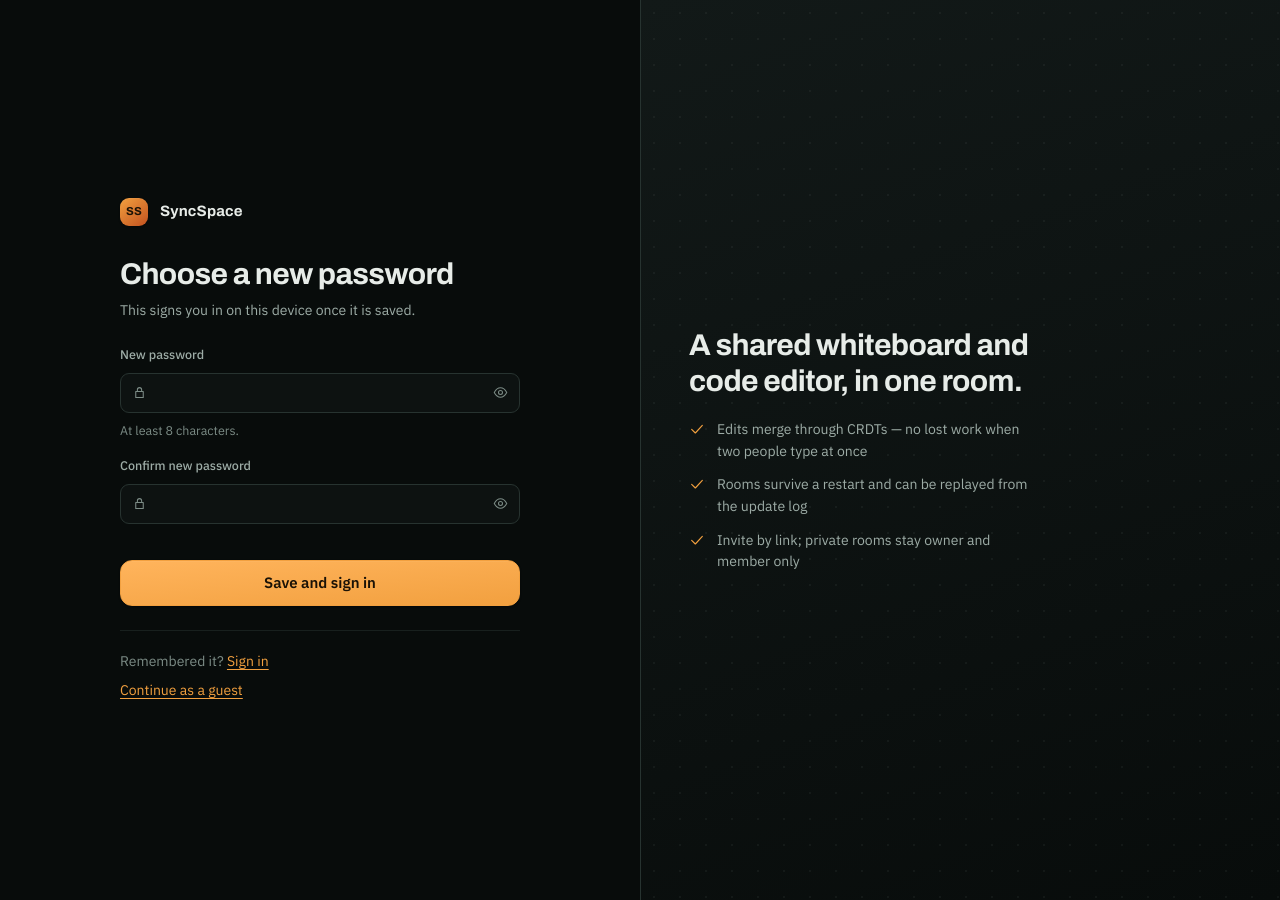
ResetPassword › offers a new link when the token has expired
Type "an-entirely-new-passphrase" into the password field labelled "New password" at (320, 393), box [120,373,520,413]
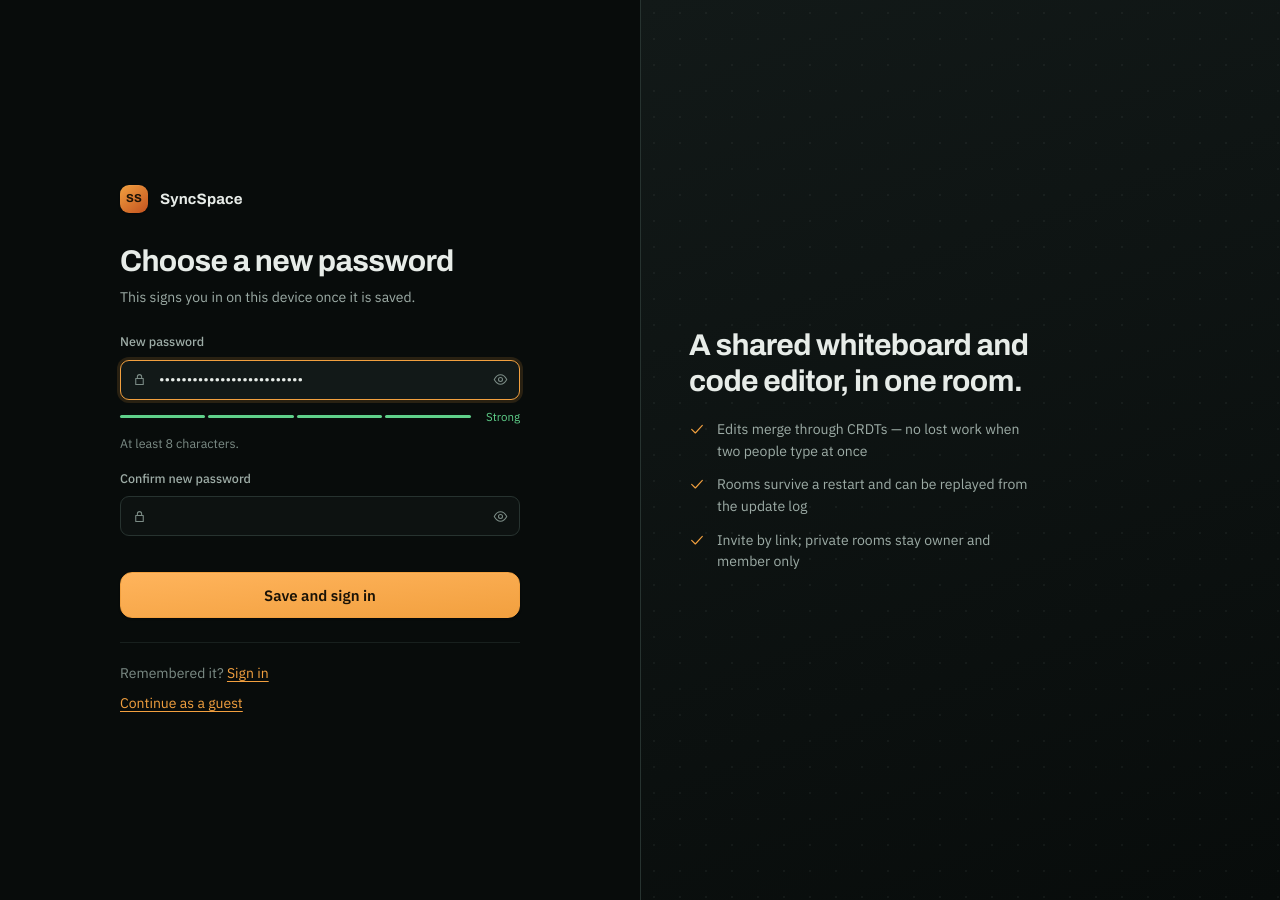
Type "an-entirely-new-passphrase" into the password field labelled "Confirm new password" at (320, 516), box [120,496,520,536]
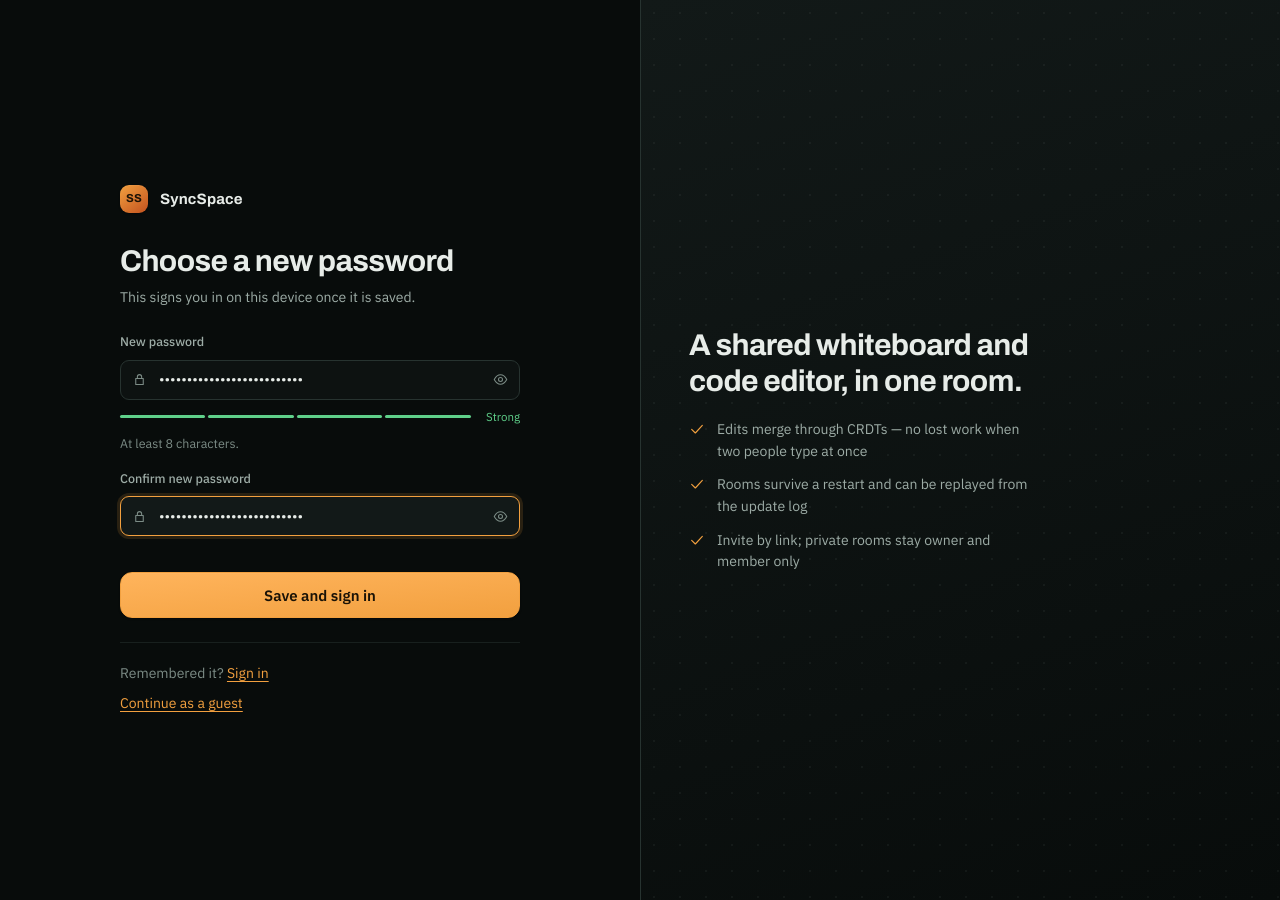
Click the button "Save and sign in" at (320, 595), box [120,572,520,618]
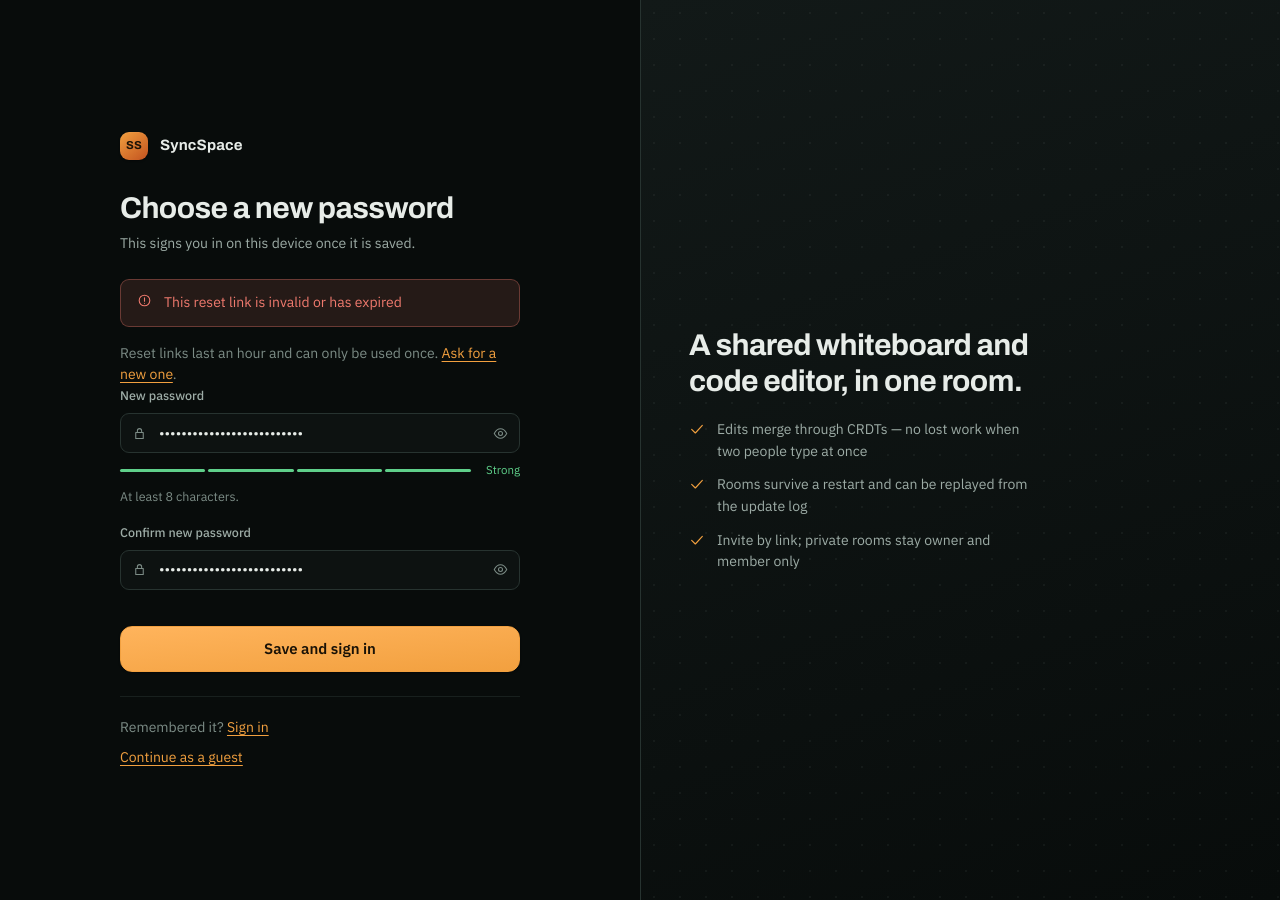
Check: the message shows "invalid or has expired", box [164,293,402,311]
